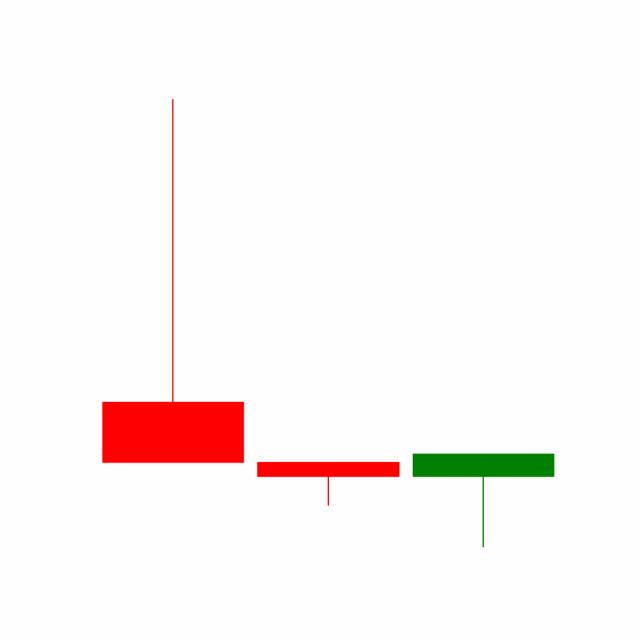Hammer: (249, 461, 406, 506)
